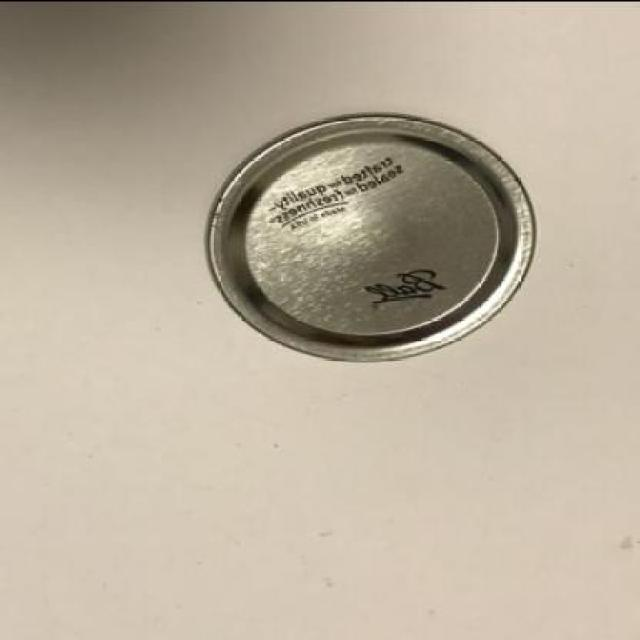METAL: (205, 114, 540, 363)
